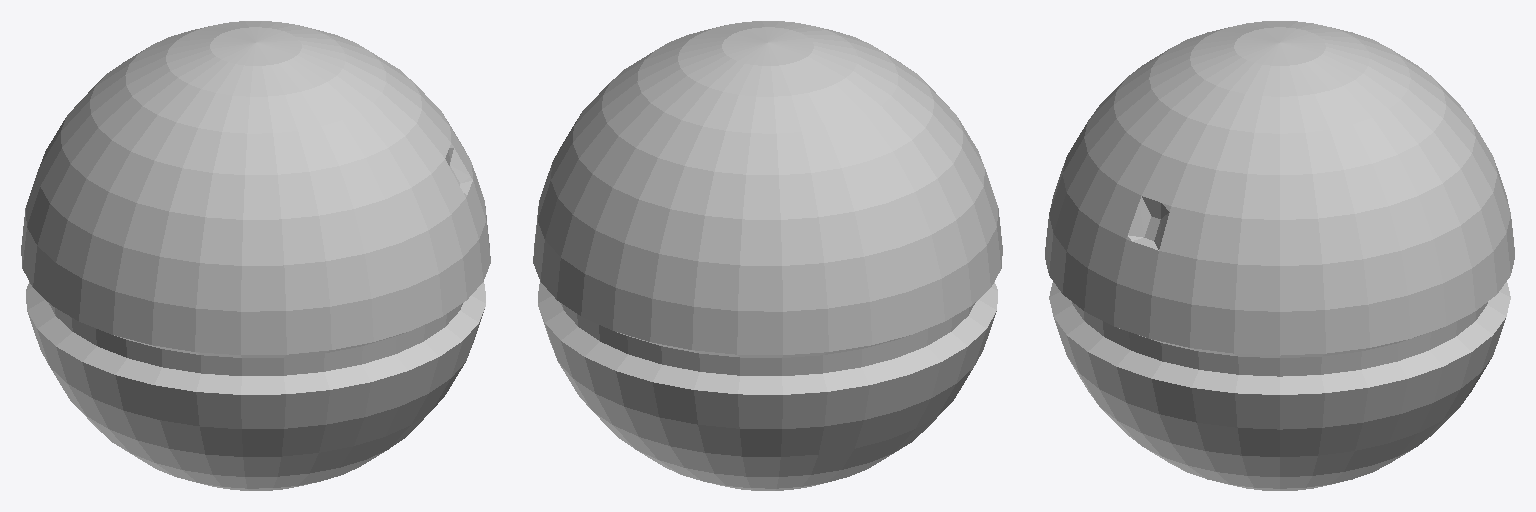
File: deathStar.obj
The picture shows the model from 3 angles: view 1: azimuth 30°, elevation 25°; view 2: azimuth 150°, elevation 25°; view 3: azimuth 270°, elevation 25°; orthographic projection.
Parts seen in each view (by area): view 1: Sphere; view 2: Sphere; view 3: Sphere.
Boxes of the visible parts, <box> form: Sphere: <box>21,21,490,490</box>; Sphere: <box>533,21,1002,490</box>; Sphere: <box>1045,21,1514,490</box>.
Size of the model in its own units: 1.22 by 1.22 by 1.22.